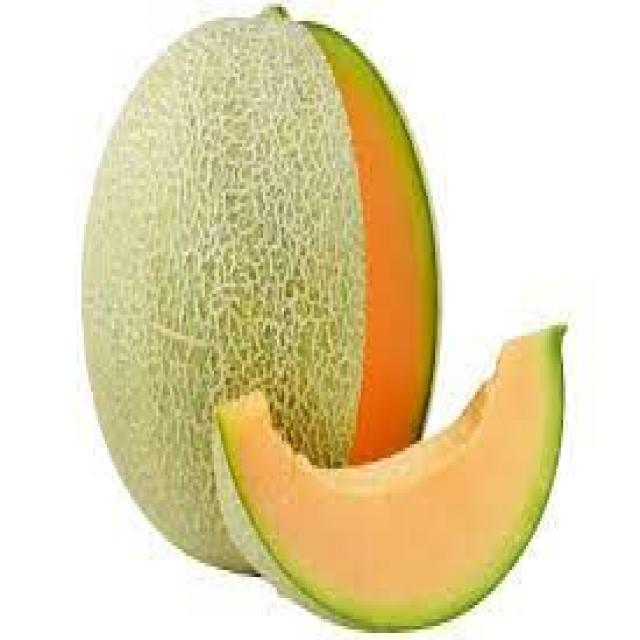melon: (79, 14, 449, 406), (212, 350, 579, 630)
